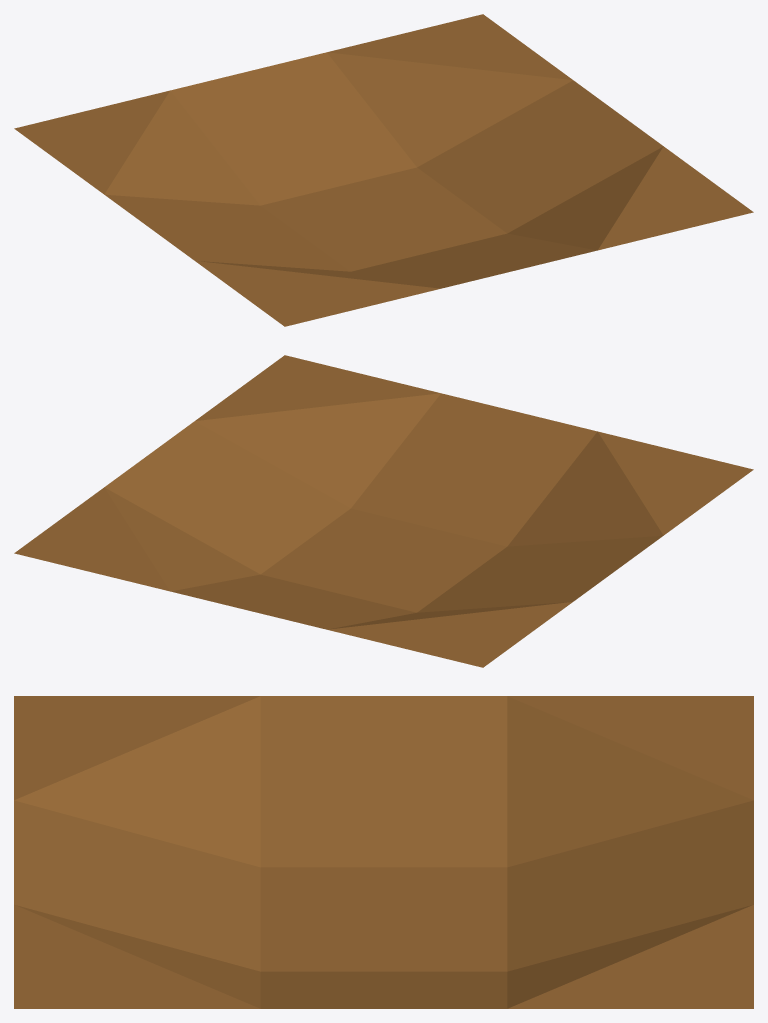
The model's file is dirt_tile.dae.
3 renders of one model, top to bottom at view 1: azimuth 30°, elevation 25°; view 2: azimuth 150°, elevation 25°; view 3: azimuth 270°, elevation 25°, orthographic. The views are drawn at different scales.
Visible parts, largest first — view 1: dirt_tile; view 2: dirt_tile; view 3: dirt_tile.
Boxes of the visible parts, <box> form: dirt_tile: <box>14,14,753,326</box>; dirt_tile: <box>14,355,753,667</box>; dirt_tile: <box>14,696,753,1008</box>.
Size of the model in its own units: 1 by 1 by 0.1.
